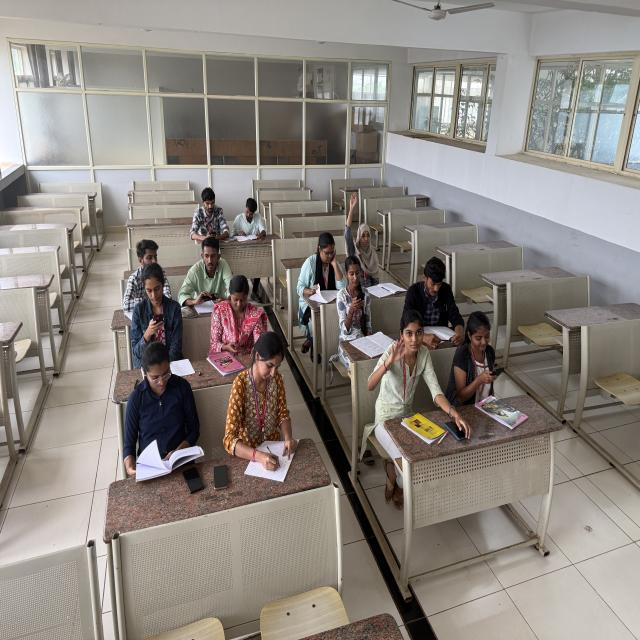Hand Rising: (371, 309, 447, 421), (341, 190, 388, 277)
Reading: (123, 340, 210, 483), (405, 243, 466, 336), (294, 226, 347, 303), (227, 192, 271, 245)
Using Phone: (450, 308, 510, 405), (207, 272, 269, 357), (124, 260, 184, 346), (334, 254, 380, 336), (180, 238, 235, 304), (186, 177, 229, 239)
Writing: (220, 332, 308, 478)
